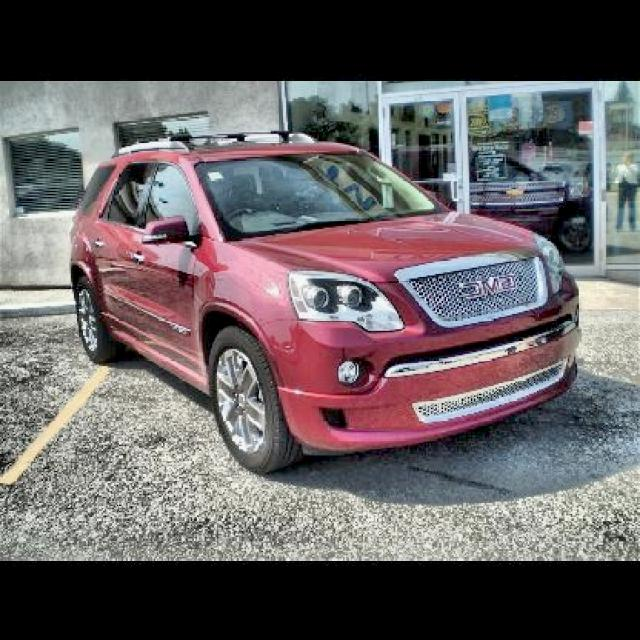red: (64, 132, 570, 452)
